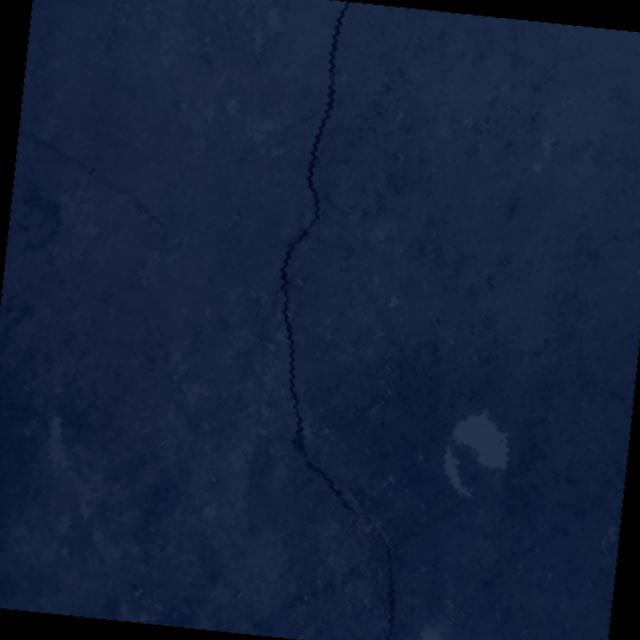crack: (237, 0, 458, 640)
